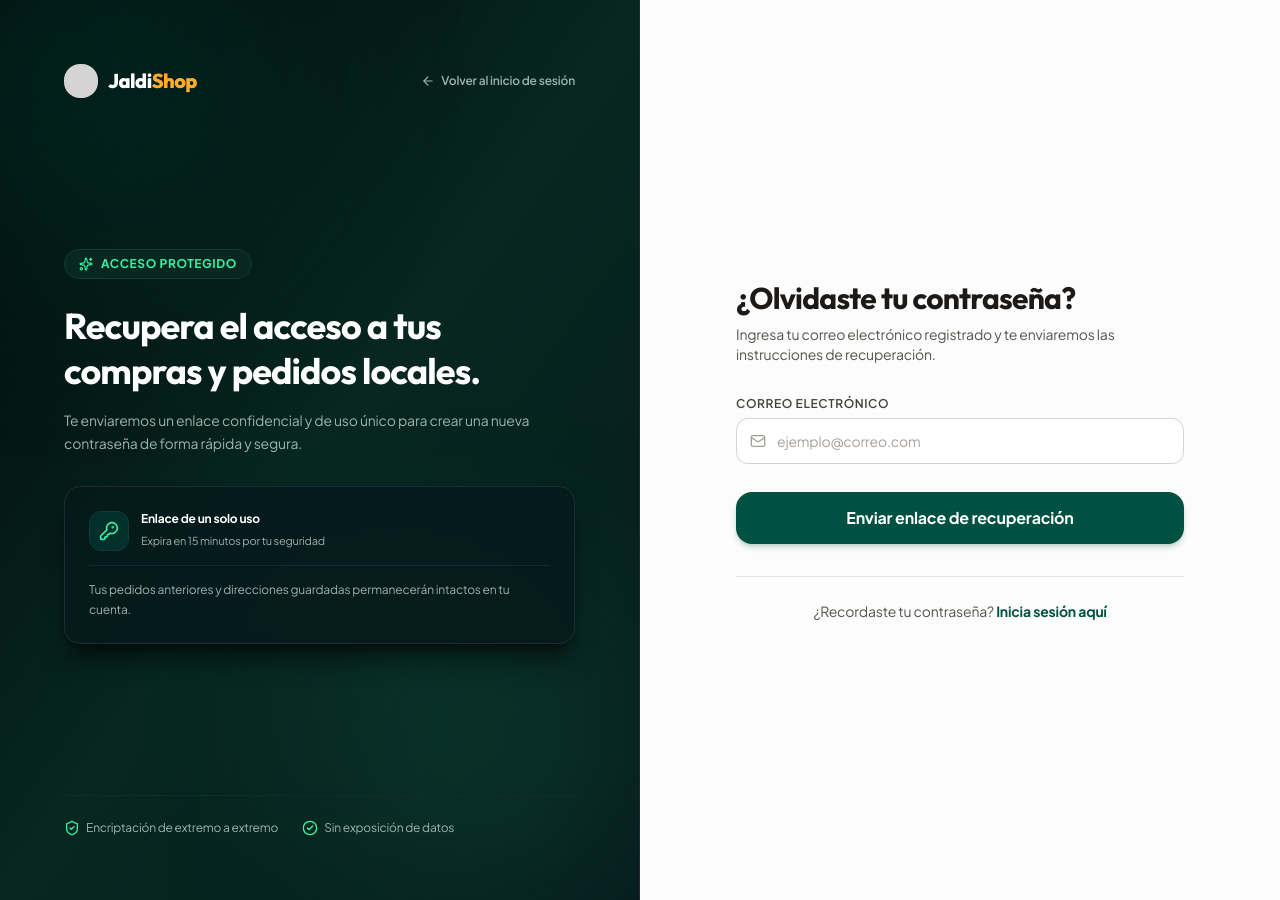
ForgotPasswordForm Component › allows user to retry with another email from the success view
This screenshot has width=1280, height=900.
Type "cliente@ejemplo.pe" into the field labelled "Correo electrónico" at (960, 440), box [736,418,1184,464]
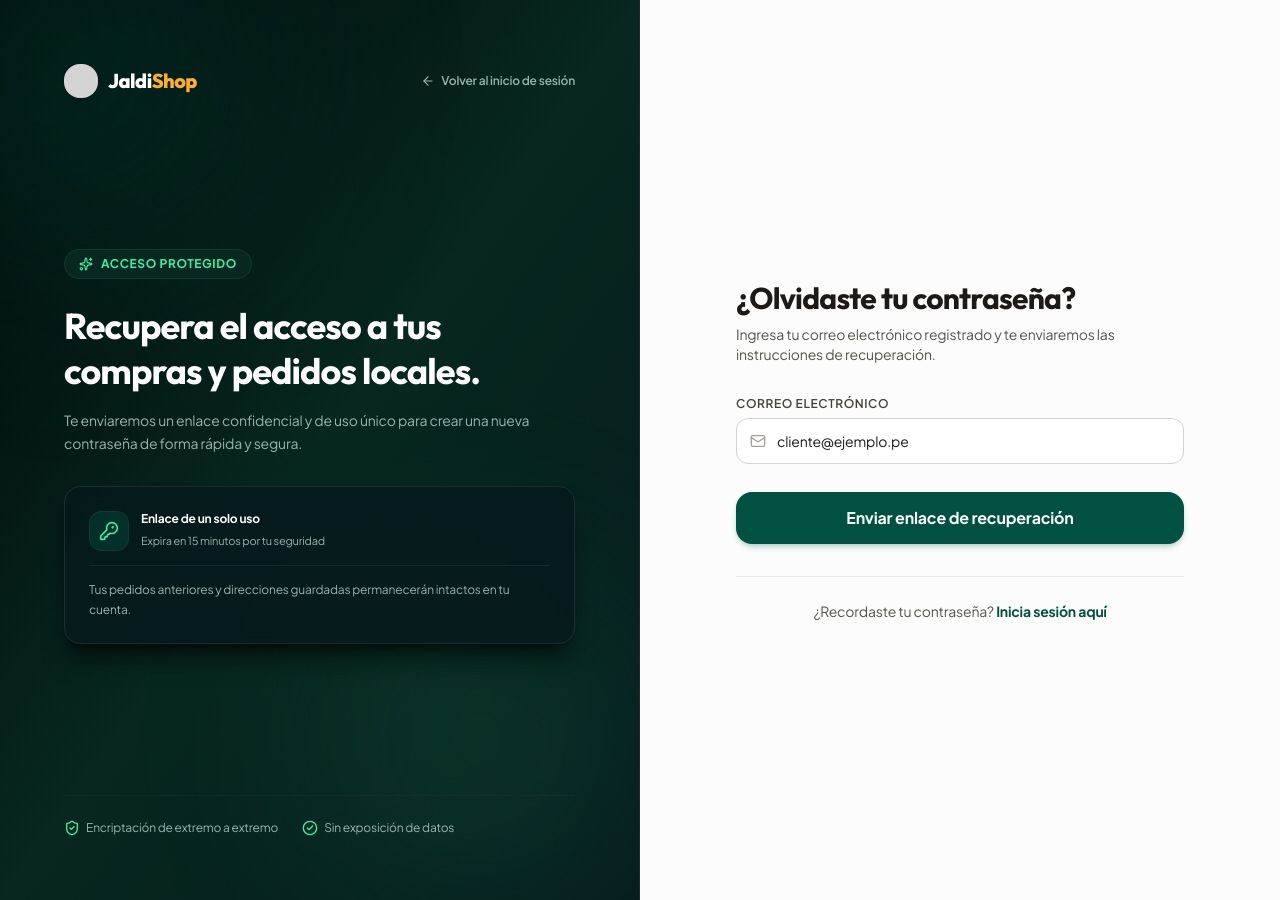
Click the button "Enviar enlace de recuperación" at (960, 518), box [736,492,1184,544]
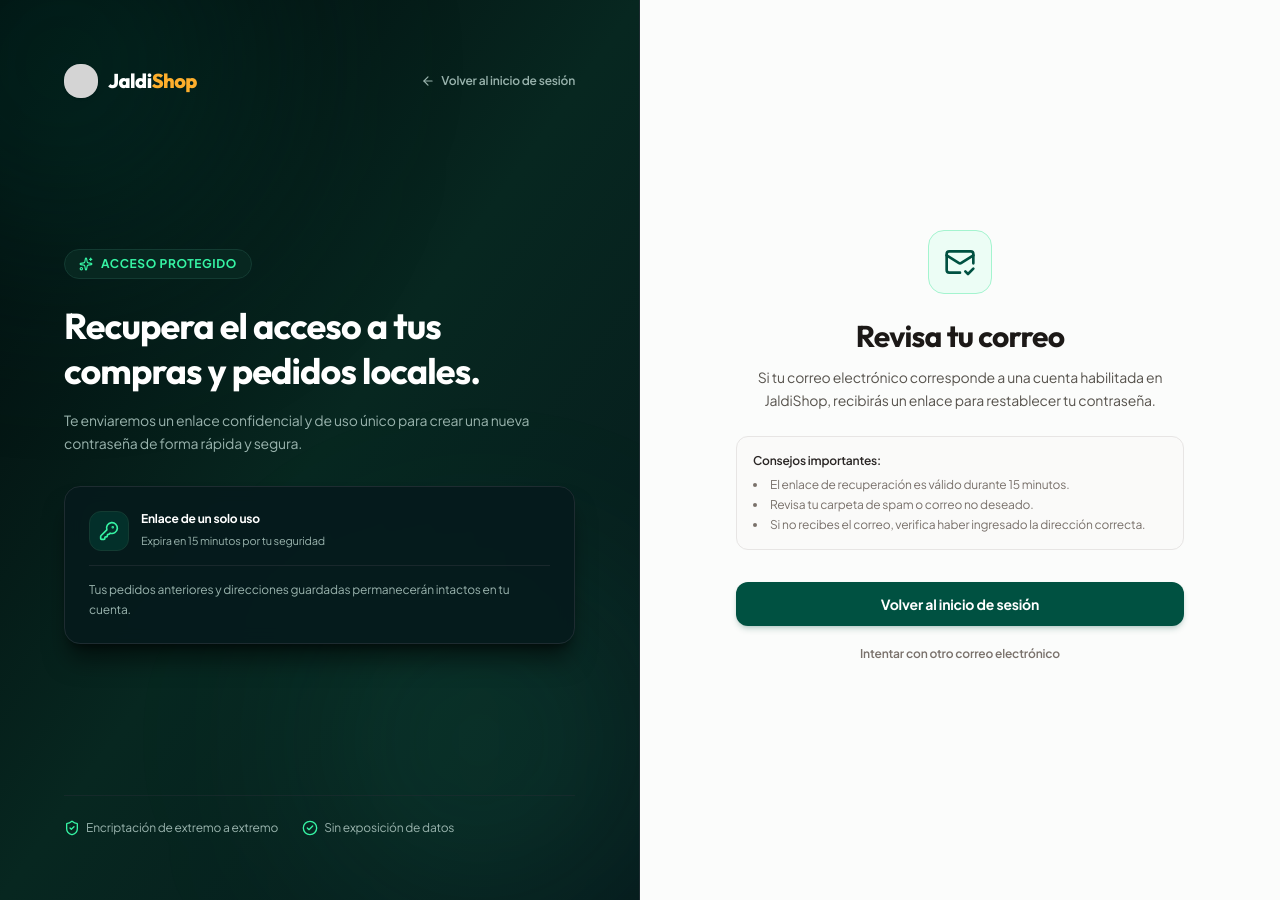
Expected: the element with test id "forgot-password-success" is shown, [736,230,1184,670]
Click the button "Intentar con otro correo electrónico" at (960, 654), box [736,638,1184,670]
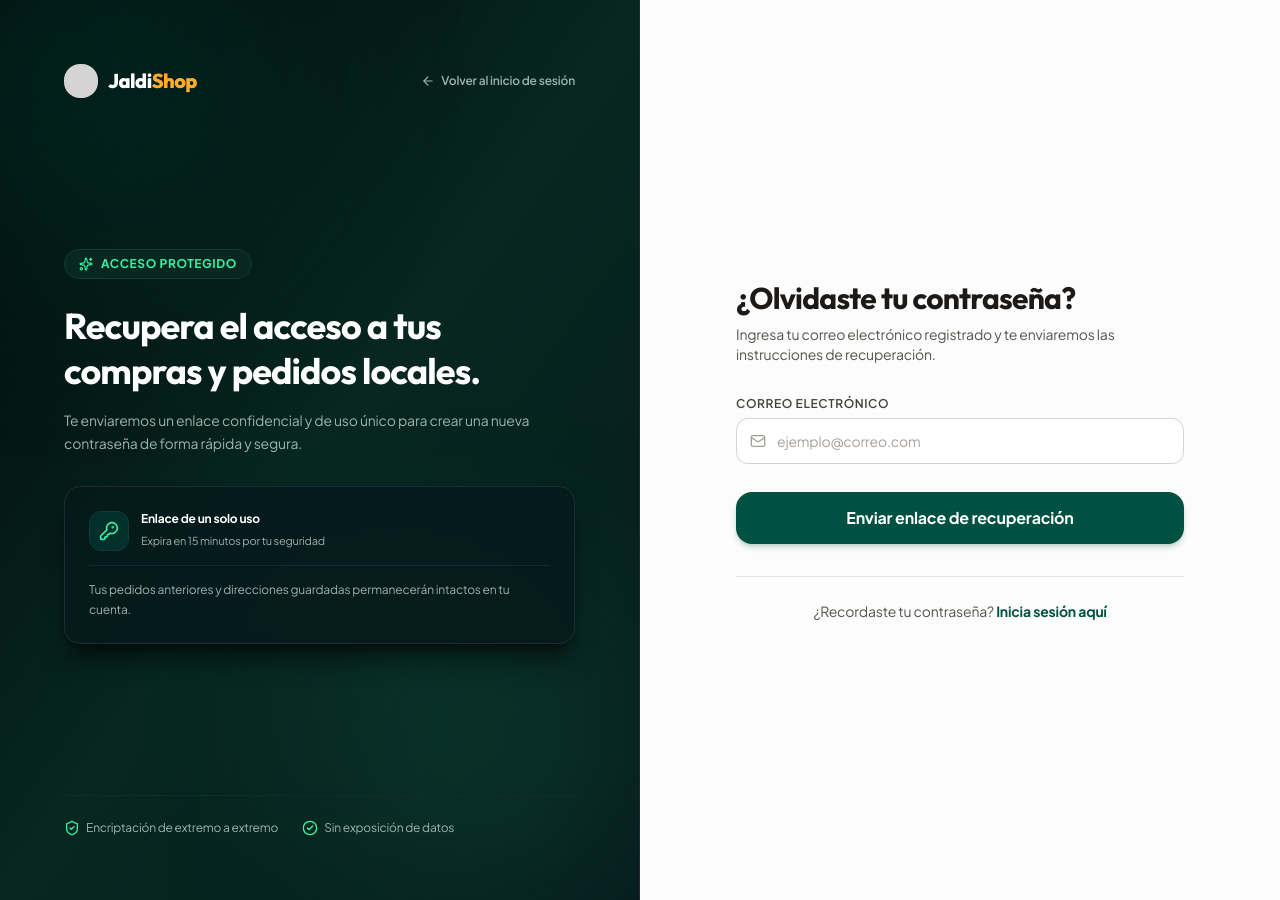
Expected: the heading "¿Olvidaste tu contraseña?" is shown, [736,278,1075,316]
Expected: the field labelled "Correo electrónico" is empty, [736,418,1184,464]
